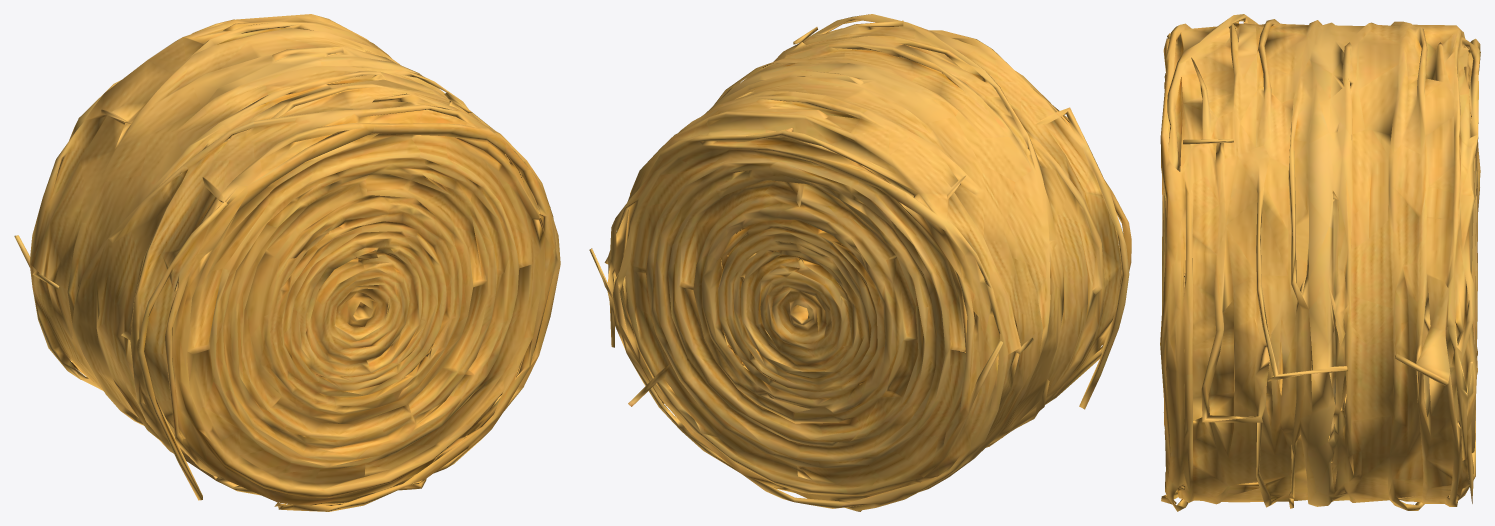
Rendered from haystack.glb.
The picture shows the model from 3 angles, left to right: view 1: azimuth 30°, elevation 25°; view 2: azimuth 150°, elevation 25°; view 3: azimuth 270°, elevation 25°; orthographic projection. The views are drawn at different scales.
Bounding box in the file's own units: 1.91 × 1.72 × 1.14.
1 material, 1 textured.
